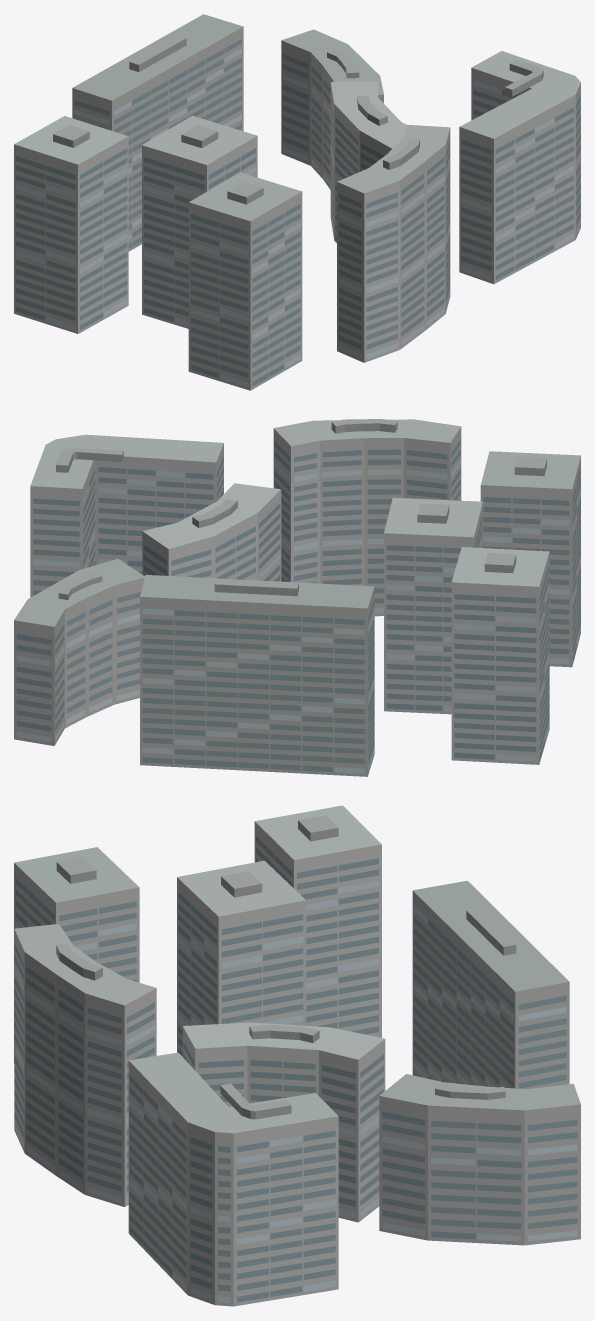
The model's file is apt-a15807311.glb.
3 views of the same model, one above another, from view 1: azimuth 30°, elevation 25°; view 2: azimuth 150°, elevation 25°; view 3: azimuth 270°, elevation 25° (orthographic). The views are drawn at different scales.
Visible parts, largest first — view 1: apt-a15807311; view 2: apt-a15807311; view 3: apt-a15807311.
Boxes of the visible parts, x1,y1,x2,y2 form: apt-a15807311: [14, 14, 580, 390]; apt-a15807311: [14, 419, 580, 776]; apt-a15807311: [14, 805, 580, 1306].
Bounding box in the file's own units: 177 × 58 × 142.
